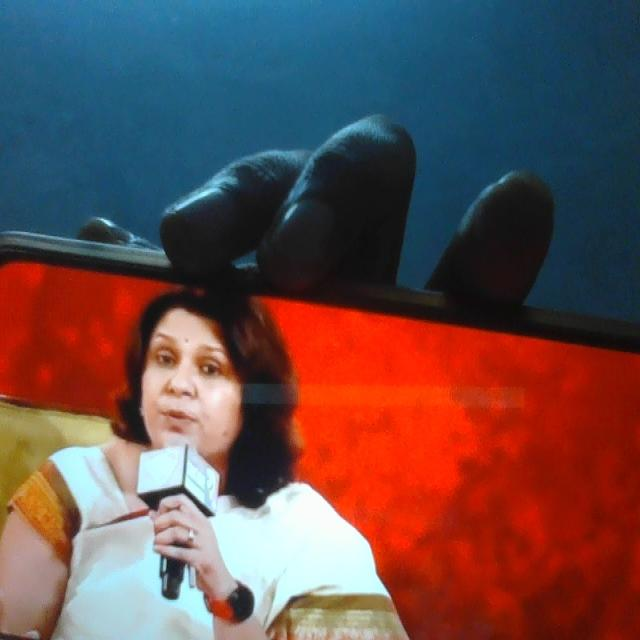fake: (133, 253, 255, 484)
